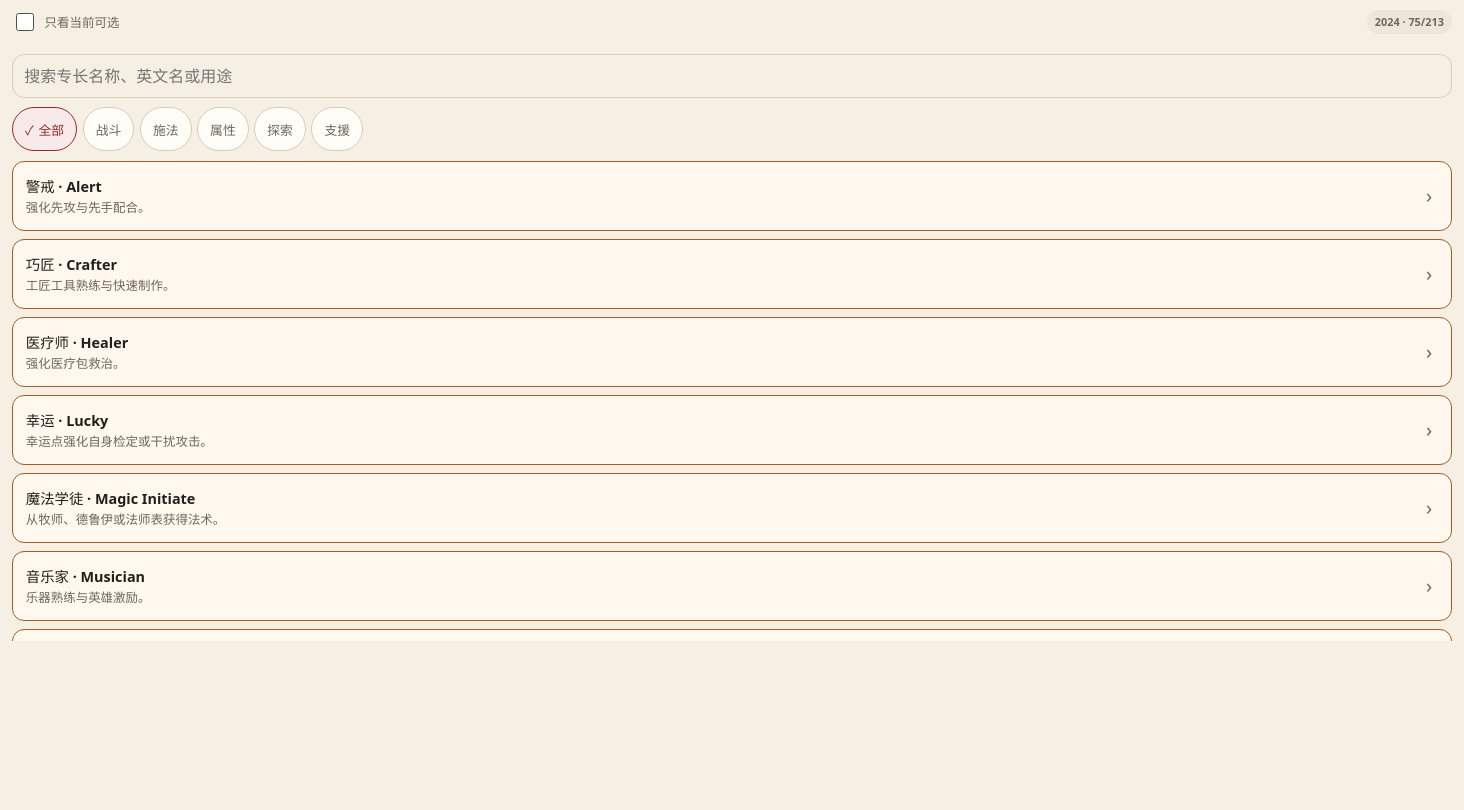
Test: FeatChoicePanel 2024 等级前置（B09-08） › 5 级角色在 4 级节点可选 4 级专长，19 级恩惠仍锁定
The image size is (1464, 810).
Type "重甲运用" into the search field with placeholder "搜索专长名称、英文名或用途" at (732, 76), box x1=12 y1=54 x2=1452 y2=98
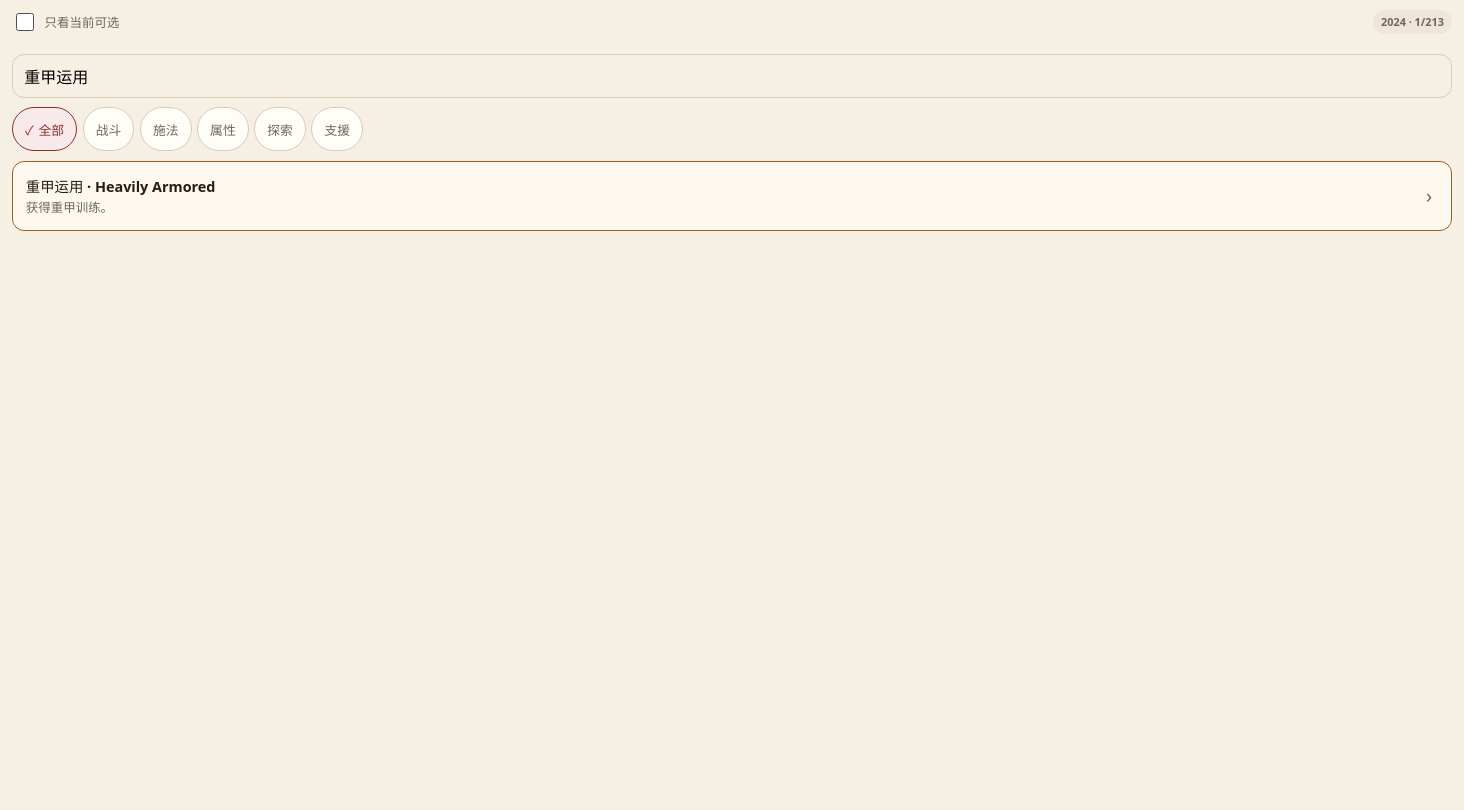
Expected: the element with class "expandable-option-card" does not show "不可选"
Expected: the element with class "expandable-option-card" is shown, x1=12 y1=161 x2=1452 y2=231
Replace the text in the search field named "搜索专长名称、英文名或用途" with "英勇战斗之恩惠" at (732, 76), box x1=12 y1=54 x2=1452 y2=98
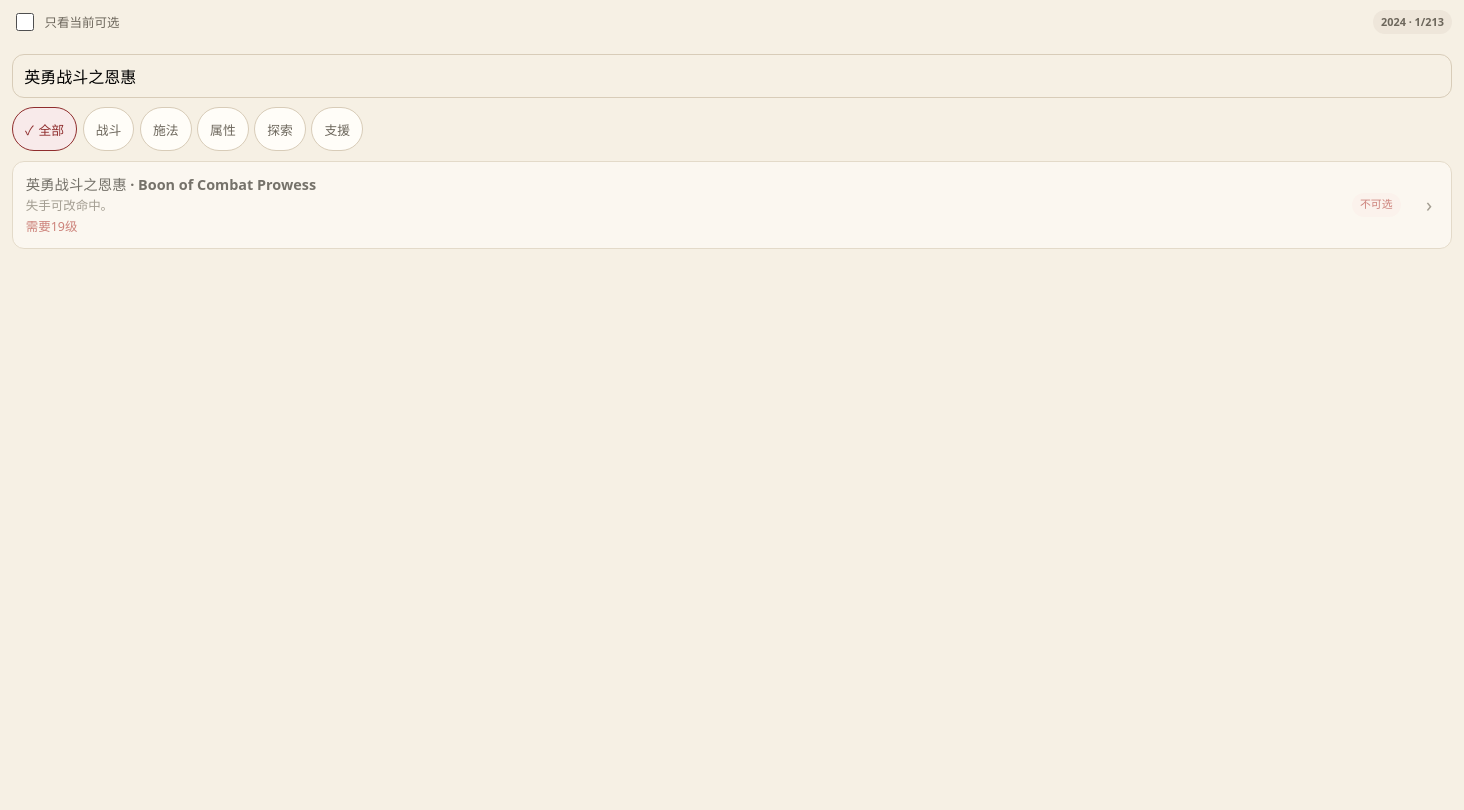
Expected: the element with class "expandable-option-card" is shown, x1=12 y1=161 x2=1452 y2=249
Expected: the element with class "expandable-option-card" shows "需要19级", x1=13 y1=162 x2=1352 y2=248
